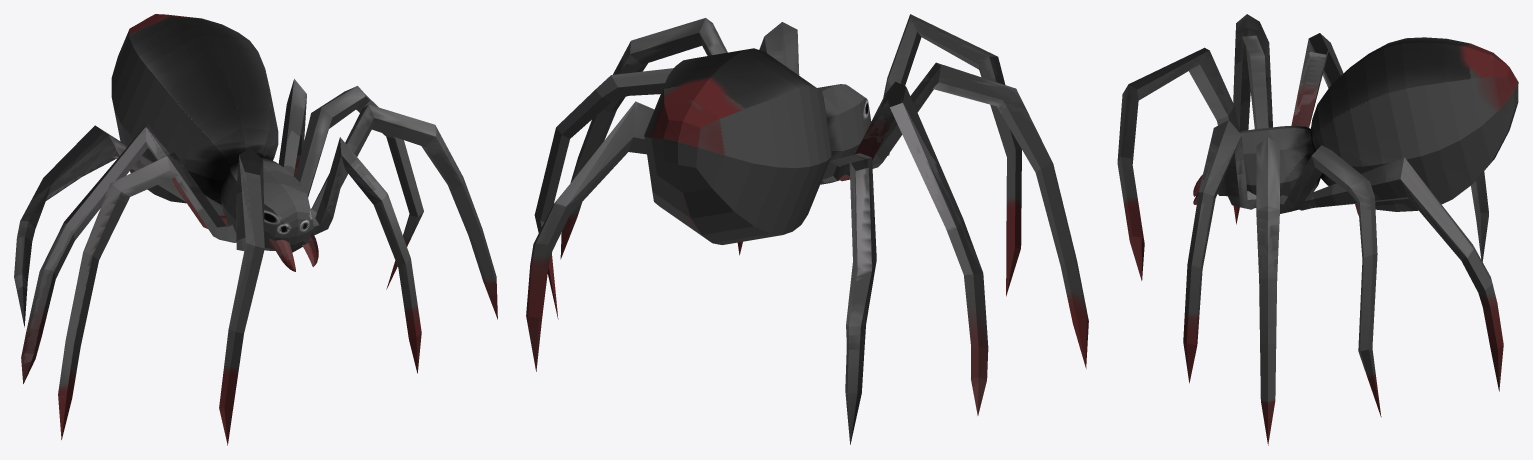
The model's file is Spider.glb.
3 renders of one model, left to right at view 1: azimuth 30°, elevation 25°; view 2: azimuth 150°, elevation 25°; view 3: azimuth 270°, elevation 25°, orthographic. The views are drawn at different scales.
Parts seen in each view (by area): view 1: Spider; view 2: Spider; view 3: Spider.
Part boxes in pixels (x1,y1,x2,y2): Spider: (14, 14, 497, 445); Spider: (526, 14, 1088, 444); Spider: (1117, 14, 1518, 445).
Bounding box in the file's own units: 1.38 × 0.853 × 1.06.
1 material, 1 textured.
